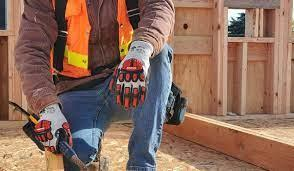gloves: (109, 41, 154, 111), (34, 103, 73, 154)
